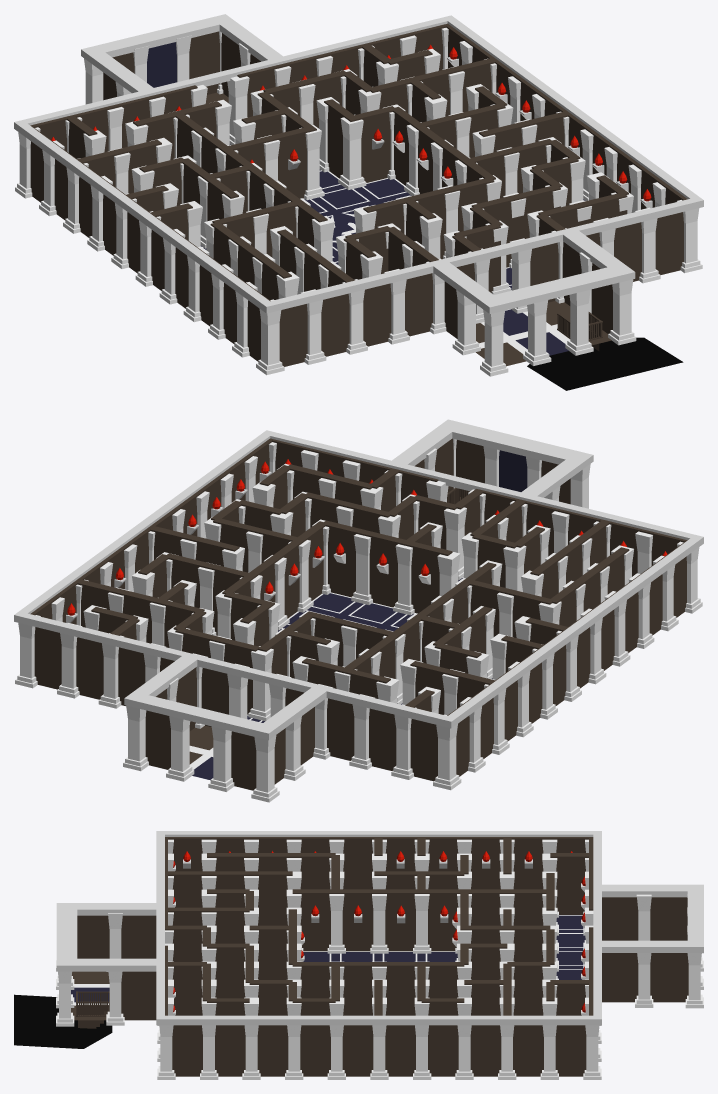
Rendered from Maze.fbx.
3 views of the same model, one above another, from view 1: azimuth 30°, elevation 25°; view 2: azimuth 150°, elevation 25°; view 3: azimuth 270°, elevation 25° (orthographic). The views are drawn at different scales.
Parts seen in each view (by area): view 1: Maze, colonnes, roof, Maze.001, torches; view 2: Maze, colonnes, roof, torches; view 3: Maze, colonnes, roof, Maze.001, torches.
Boxes of the visible parts, left/top/right/bottom form: Maze: left=30, top=23, right=687, bottom=366; colonnes: left=15, top=27, right=702, bottom=376; roof: left=14, top=14, right=703, bottom=313; Maze.001: left=527, top=312, right=683, bottom=390; torches: left=51, top=44, right=652, bottom=208; Maze: left=30, top=438, right=687, bottom=790; colonnes: left=15, top=439, right=702, bottom=802; roof: left=14, top=419, right=703, bottom=740; torches: left=66, top=459, right=667, bottom=622; Maze: left=71, top=837, right=688, bottom=1076; colonnes: left=56, top=839, right=703, bottom=1079; roof: left=56, top=831, right=703, bottom=1025; Maze.001: left=14, top=991, right=112, bottom=1048; torches: left=172, top=851, right=585, bottom=1015.
Size of the model in its own units: 2076 by 384 by 3214.
